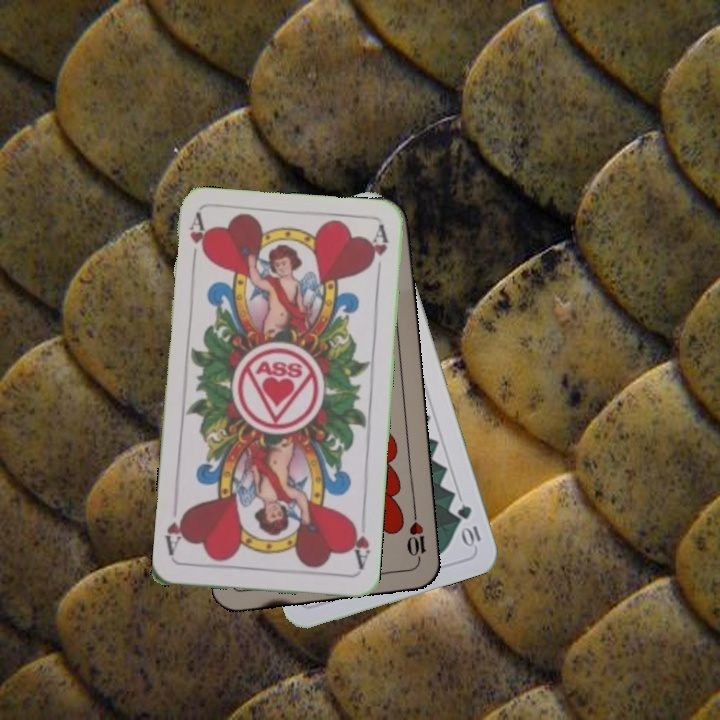G10: (453, 500, 484, 550)
H10: (402, 509, 429, 568)
HA: (346, 517, 373, 573), (185, 211, 209, 270)
